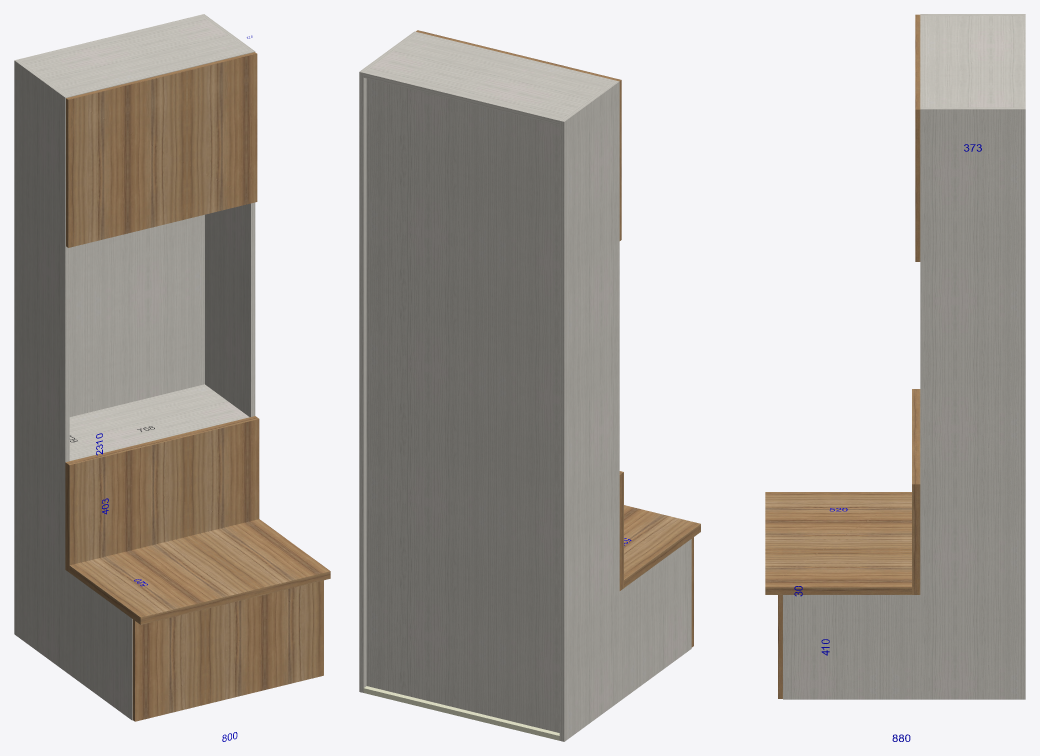
The picture shows the model from 3 angles, left to right: view 1: azimuth 30°, elevation 25°; view 2: azimuth 150°, elevation 25°; view 3: azimuth 270°, elevation 25°; orthographic projection. The views are drawn at different scales.
Visible parts, largest first — view 1: {EDE375E2-70EB-48dd-A95C-58BE2DBB7443}_Node, {AC937F20-4B40-40f4-B3A1-43BE7765D011}_Node, {F2B5FD92-22DE-42d0-8097-E28F7F13E52C}_Node, {57A3C8F9-FDDA-4b72-9618-B0F8C2A38F9C}_Node, {2E27F1B0-D450-4d9f-924D-600F4498013D}_Node, {16A014F5-6436-4c6e-A307-D9F4B4BFFFA5}_Node, {9A38097C-95DA-442a-92F4-FCE90132480C}_Node, {2E848DF9-66CE-4c07-A6CD-057BC6A3B5CD}_Node, {81BD9BE7-79B1-4369-BF11-74A81A021FE6}_Node; view 2: {F2B5FD92-22DE-42d0-8097-E28F7F13E52C}_Node, {EDE375E2-70EB-48dd-A95C-58BE2DBB7443}_Node, {2E848DF9-66CE-4c07-A6CD-057BC6A3B5CD}_Node, {9A38097C-95DA-442a-92F4-FCE90132480C}_Node, {16A014F5-6436-4c6e-A307-D9F4B4BFFFA5}_Node, {AC96BAF2-EE8C-44fe-91DF-E08381B41D1A}_Node, {AC937F20-4B40-40f4-B3A1-43BE7765D011}_Node; view 3: {9A38097C-95DA-442a-92F4-FCE90132480C}_Node, {16A014F5-6436-4c6e-A307-D9F4B4BFFFA5}_Node, {2E848DF9-66CE-4c07-A6CD-057BC6A3B5CD}_Node, {57A3C8F9-FDDA-4b72-9618-B0F8C2A38F9C}_Node, {AC937F20-4B40-40f4-B3A1-43BE7765D011}_Node, {2E27F1B0-D450-4d9f-924D-600F4498013D}_Node.
Boxes of the visible parts, x1,y1,x2,y2 form: {EDE375E2-70EB-48dd-A95C-58BE2DBB7443}_Node: (14,59,132,720); {AC937F20-4B40-40f4-B3A1-43BE7765D011}_Node: (66,52,257,247); {F2B5FD92-22DE-42d0-8097-E28F7F13E52C}_Node: (69,214,204,416); {57A3C8F9-FDDA-4b72-9618-B0F8C2A38F9C}_Node: (65,416,259,572); {2E27F1B0-D450-4d9f-924D-600F4498013D}_Node: (132,580,323,721); {16A014F5-6436-4c6e-A307-D9F4B4BFFFA5}_Node: (69,519,330,624); {9A38097C-95DA-442a-92F4-FCE90132480C}_Node: (200,14,255,416); {2E848DF9-66CE-4c07-A6CD-057BC6A3B5CD}_Node: (19,15,250,96); {81BD9BE7-79B1-4369-BF11-74A81A021FE6}_Node: (69,384,249,460); {F2B5FD92-22DE-42d0-8097-E28F7F13E52C}_Node: (366,78,559,732); {EDE375E2-70EB-48dd-A95C-58BE2DBB7443}_Node: (559,80,691,741); {2E848DF9-66CE-4c07-A6CD-057BC6A3B5CD}_Node: (363,32,614,125); {9A38097C-95DA-442a-92F4-FCE90132480C}_Node: (359,31,418,692); {16A014F5-6436-4c6e-A307-D9F4B4BFFFA5}_Node: (624,505,700,587); {AC96BAF2-EE8C-44fe-91DF-E08381B41D1A}_Node: (363,686,559,740); {AC937F20-4B40-40f4-B3A1-43BE7765D011}_Node: (416,30,621,240); {9A38097C-95DA-442a-92F4-FCE90132480C}_Node: (783,107,1025,699); {16A014F5-6436-4c6e-A307-D9F4B4BFFFA5}_Node: (765,492,911,594); {2E848DF9-66CE-4c07-A6CD-057BC6A3B5CD}_Node: (920,16,1025,107); {57A3C8F9-FDDA-4b72-9618-B0F8C2A38F9C}_Node: (912,389,920,594); {AC937F20-4B40-40f4-B3A1-43BE7765D011}_Node: (915,14,920,261); {2E27F1B0-D450-4d9f-924D-600F4498013D}_Node: (778,595,782,698).
Size of what is drawn, in the model's own units: 0.9645 by 2.54 by 0.923.
Materials: 96 (9 with a texture image).
